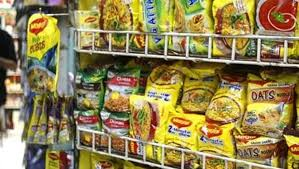maggie: (196, 120, 236, 169), (167, 114, 198, 167)
